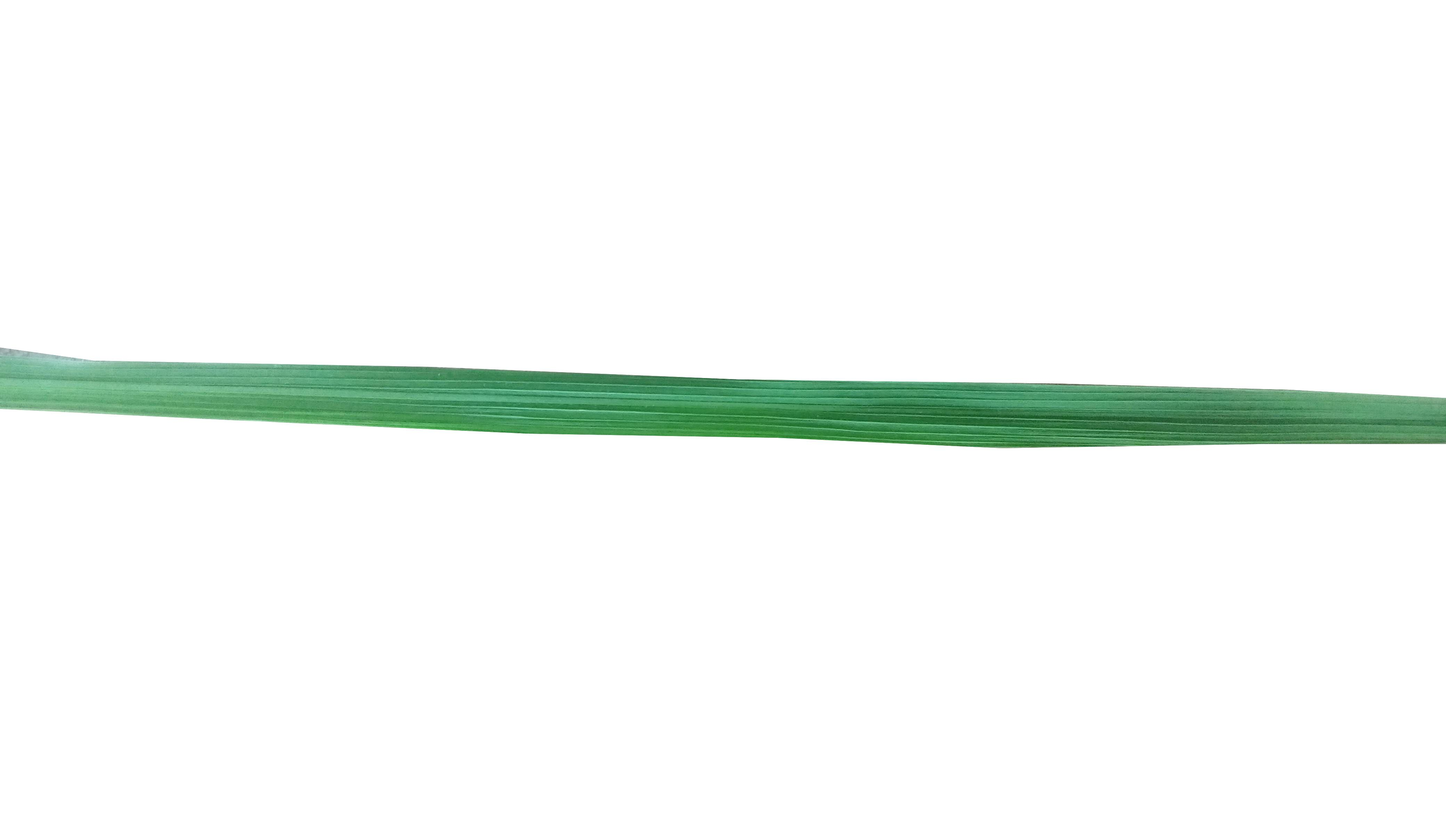Healthy: (0, 351, 1446, 451)
